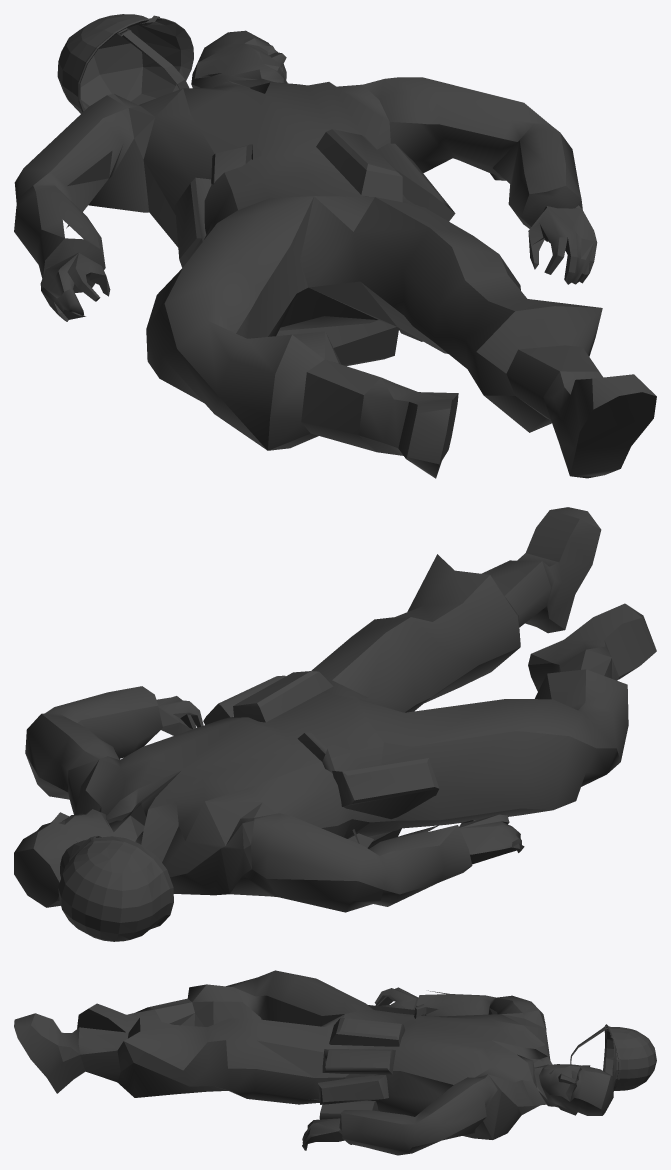
Rendered from us_ferito.glb.
3 views of the same model, one above another, from view 1: azimuth 30°, elevation 25°; view 2: azimuth 150°, elevation 25°; view 3: azimuth 270°, elevation 25° (orthographic). The views are drawn at different scales.
Parts seen in each view (by area): view 1: Object.004_Object.017_1; view 2: Object.004_Object.017_1; view 3: Object.004_Object.017_1.
Part boxes in pixels (x1=…): Object.004_Object.017_1: x1=14, y1=14, x2=656, y2=478; Object.004_Object.017_1: x1=14, y1=507, x2=656, y2=941; Object.004_Object.017_1: x1=14, y1=970, x2=656, y2=1155.
Bounding box in the file's own units: 0.3132 × 0.1113 × 0.5601.
Materials: 1 (1 with a texture image).
